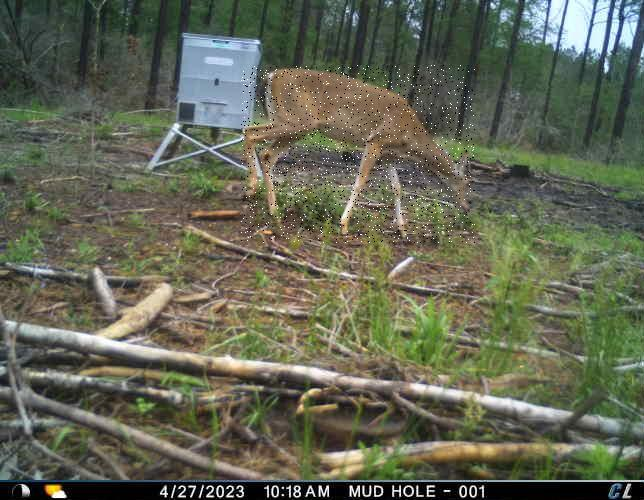Deer: (242, 66, 476, 244)
